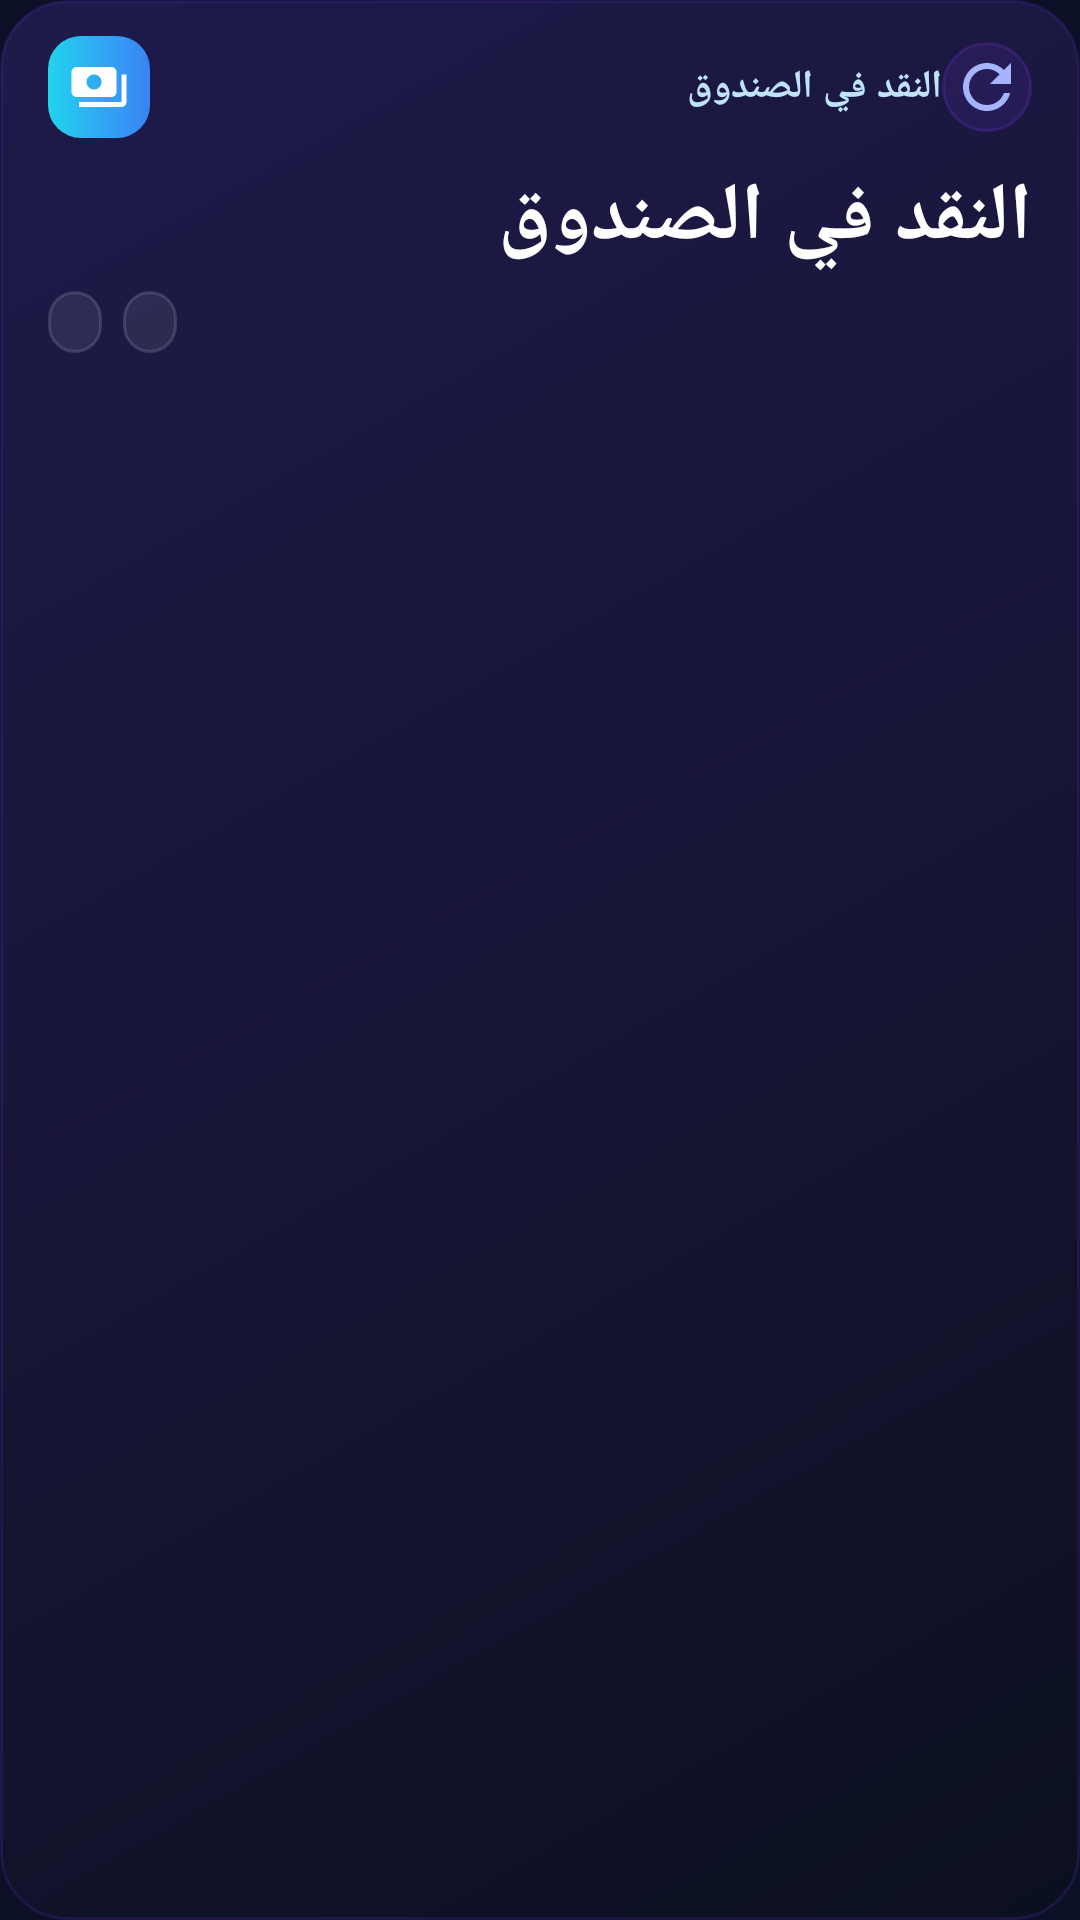

Locate icon controls on the screen. Image size 1080px x 1920px, boxes as [x1=x1, y1=y1, x2=x2, y2=y2].
widget refresh: [x1=942, y1=42, x2=1032, y2=132]
